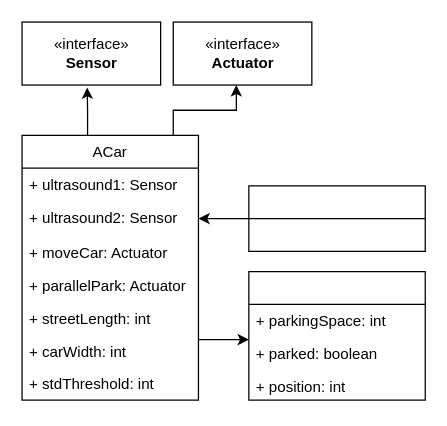
The diagram is 447 pixels wide and 426 high, and some of its shapes have lost their labels. Each missing label, with the box of its shape:
Car: (248, 185, 425, 251)
CarState: (248, 270, 425, 400)
